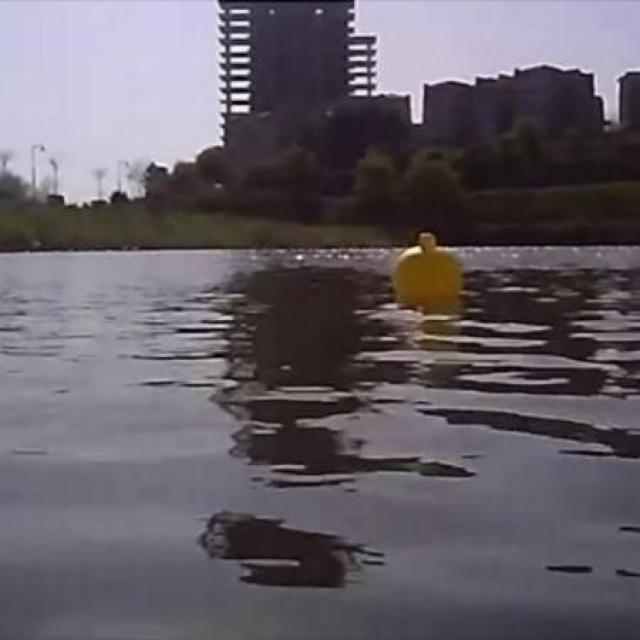buoy: (394, 234, 464, 305)
